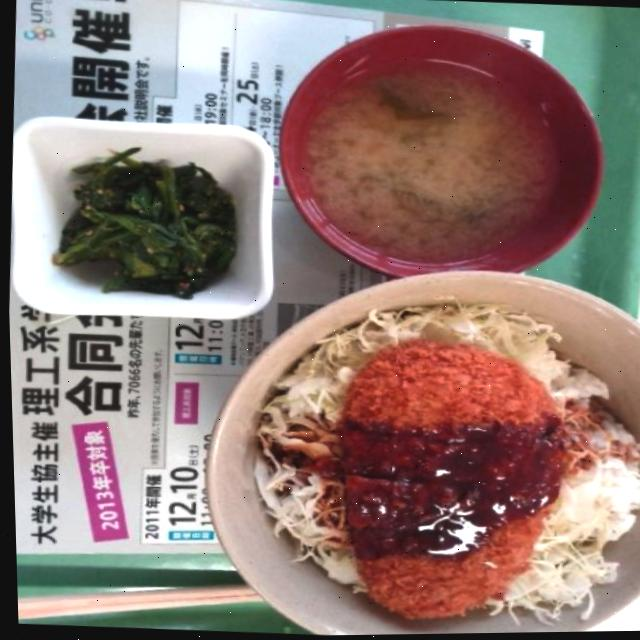汤锅炖物: (270, 12, 625, 308)
